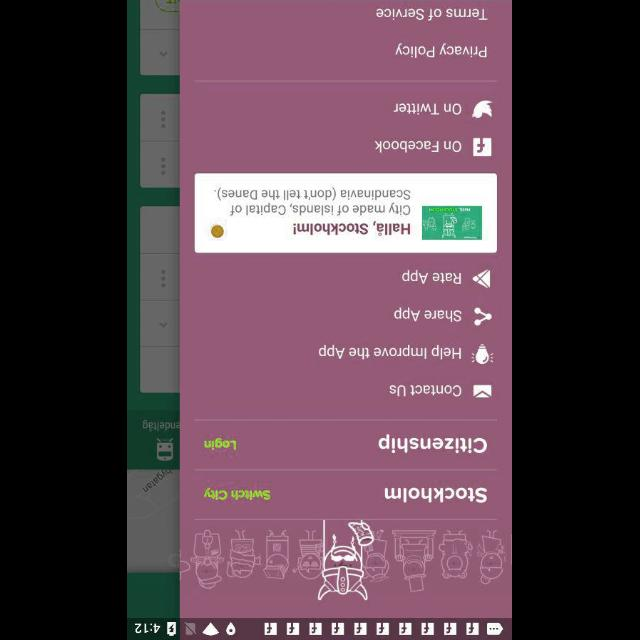icon: (471, 100, 493, 120), (473, 306, 492, 326), (473, 138, 493, 156), (473, 268, 491, 288), (473, 384, 492, 398)
image: (181, 518, 504, 602), (423, 206, 483, 240), (472, 343, 494, 365)
panel: (180, 0, 512, 616), (194, 173, 498, 253)
text: (215, 188, 412, 216), (320, 344, 462, 361), (378, 434, 488, 454), (293, 220, 411, 236), (385, 486, 489, 502), (376, 8, 489, 22), (396, 42, 488, 59), (375, 140, 463, 154), (393, 306, 462, 322), (393, 102, 462, 116), (204, 486, 272, 500), (390, 384, 462, 396), (402, 270, 462, 284), (205, 437, 238, 451)
uppertaskbar: (128, 617, 512, 639)
